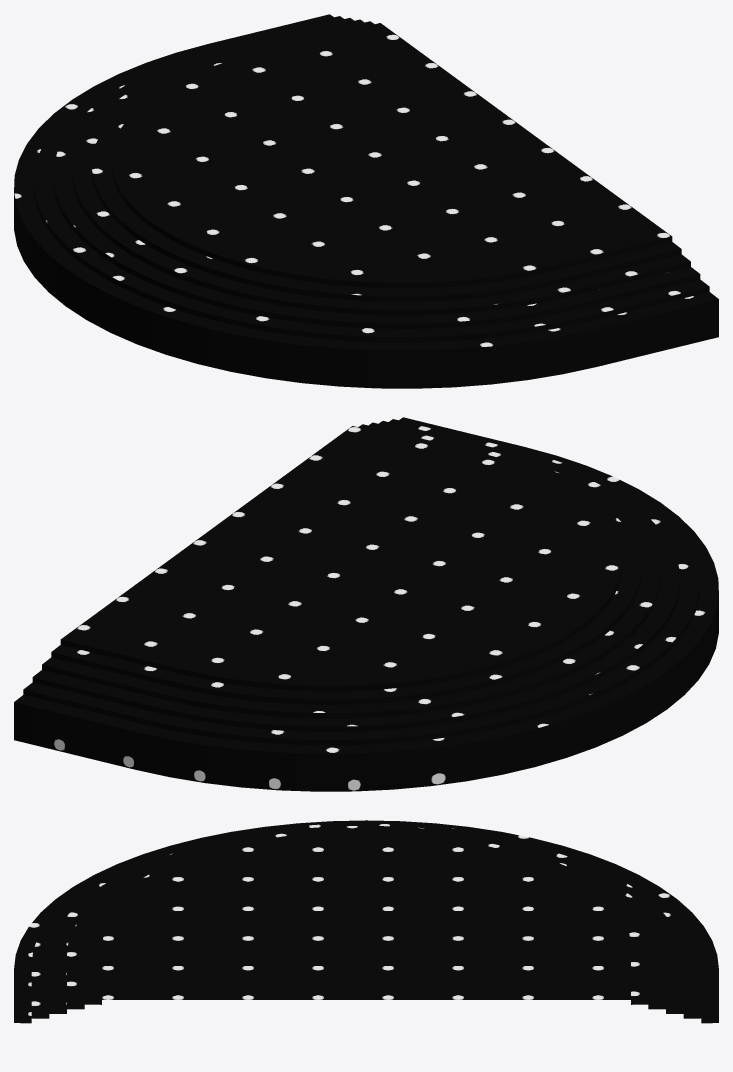
Rendered from StartPlatform.fbx.
The picture shows the model from 3 angles, top to bottom: view 1: azimuth 30°, elevation 25°; view 2: azimuth 150°, elevation 25°; view 3: azimuth 270°, elevation 25°; orthographic projection. The views are drawn at different scales.
Parts seen in each view (by area): view 1: StartPlatform; view 2: StartPlatform; view 3: StartPlatform.
Boxes of the visible parts, left/top/right/bottom form: StartPlatform: left=14, top=14, right=718, bottom=388; StartPlatform: left=14, top=417, right=718, bottom=791; StartPlatform: left=14, top=820, right=718, bottom=1023.
Bounding box in the file's own units: 27.33 × 3.66 × 40.
